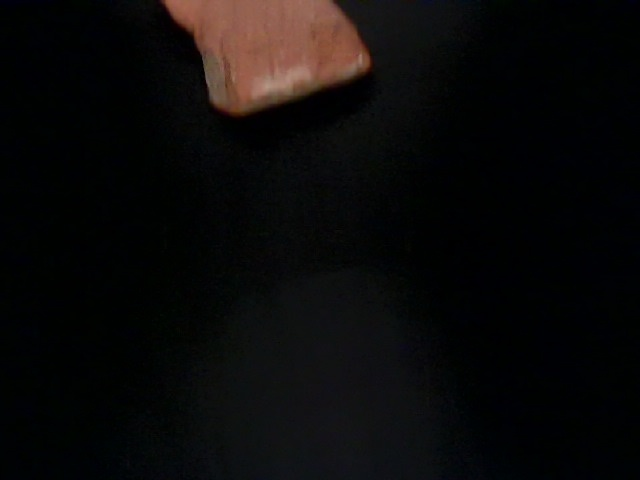KHSLJ: (196, 1, 594, 151)
